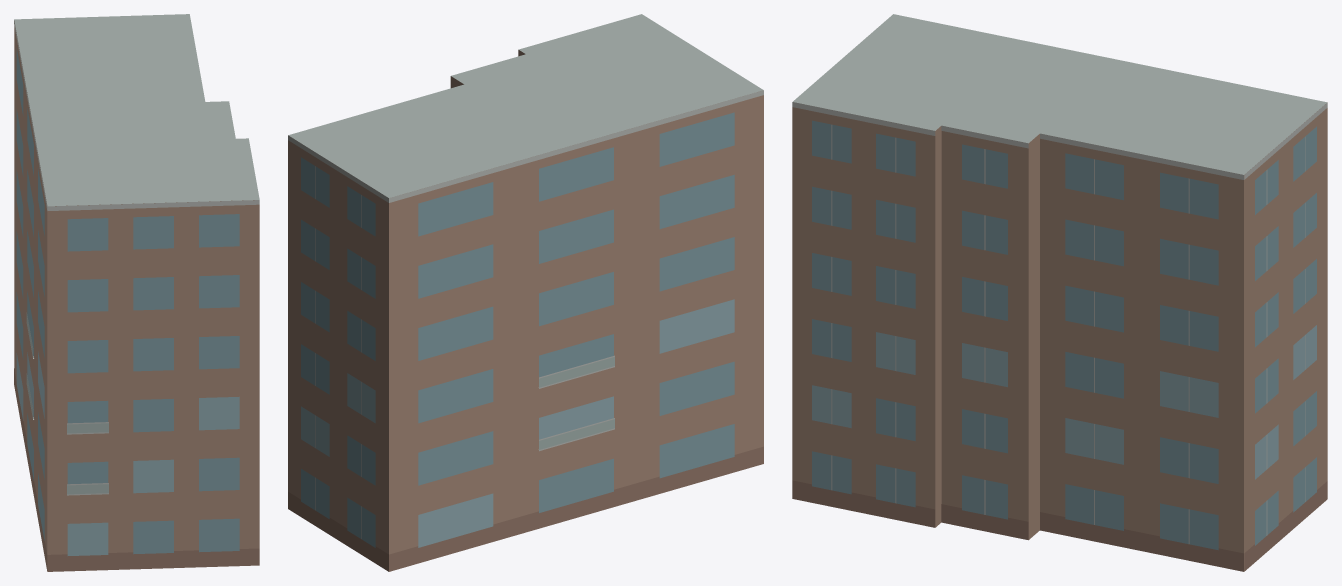
File: survey-upis-33033212.glb
3 views of the same model, side by side, from view 1: azimuth 30°, elevation 25°; view 2: azimuth 150°, elevation 25°; view 3: azimuth 270°, elevation 25° (orthographic). The views are drawn at different scales.
Visible parts, largest first — view 1: survey-upis-33033212.tmp; view 2: survey-upis-33033212.tmp; view 3: survey-upis-33033212.tmp.
Part boxes in pixels (<box>): survey-upis-33033212.tmp: <box>14,14,259,571</box>; survey-upis-33033212.tmp: <box>288,14,763,571</box>; survey-upis-33033212.tmp: <box>792,14,1327,571</box>.
Size of the model in its own units: 16.19 by 18.6 by 22.74.
